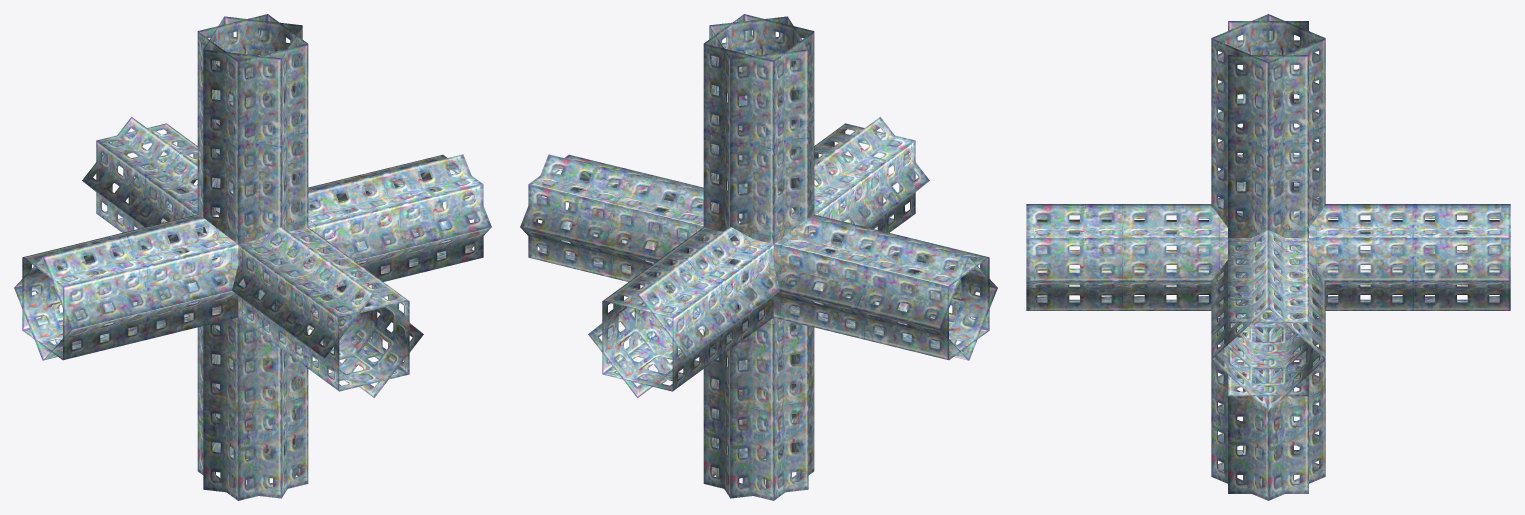
The model's file is StarTetrahemihexacron8.gltf.
3 views of the same model, side by side, from view 1: azimuth 30°, elevation 25°; view 2: azimuth 150°, elevation 25°; view 3: azimuth 270°, elevation 25° (orthographic).
Parts seen in each view (by area): view 1: StarTetrahemihexacron; view 2: StarTetrahemihexacron; view 3: StarTetrahemihexacron.
Boxes of the visible parts, x1,y1,x2,y2 form: StarTetrahemihexacron: [14, 14, 491, 500]; StarTetrahemihexacron: [520, 14, 997, 500]; StarTetrahemihexacron: [1026, 14, 1510, 500].
Bounding box in the file's own units: 6 × 6 × 6.
1 material, 1 textured.
